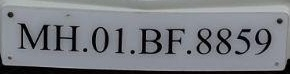character: (17, 21, 51, 51), (52, 22, 79, 52), (137, 27, 162, 55), (165, 27, 185, 55), (254, 27, 272, 56), (91, 25, 108, 54), (234, 28, 251, 55), (196, 27, 212, 55), (216, 28, 232, 55), (113, 26, 125, 55)
